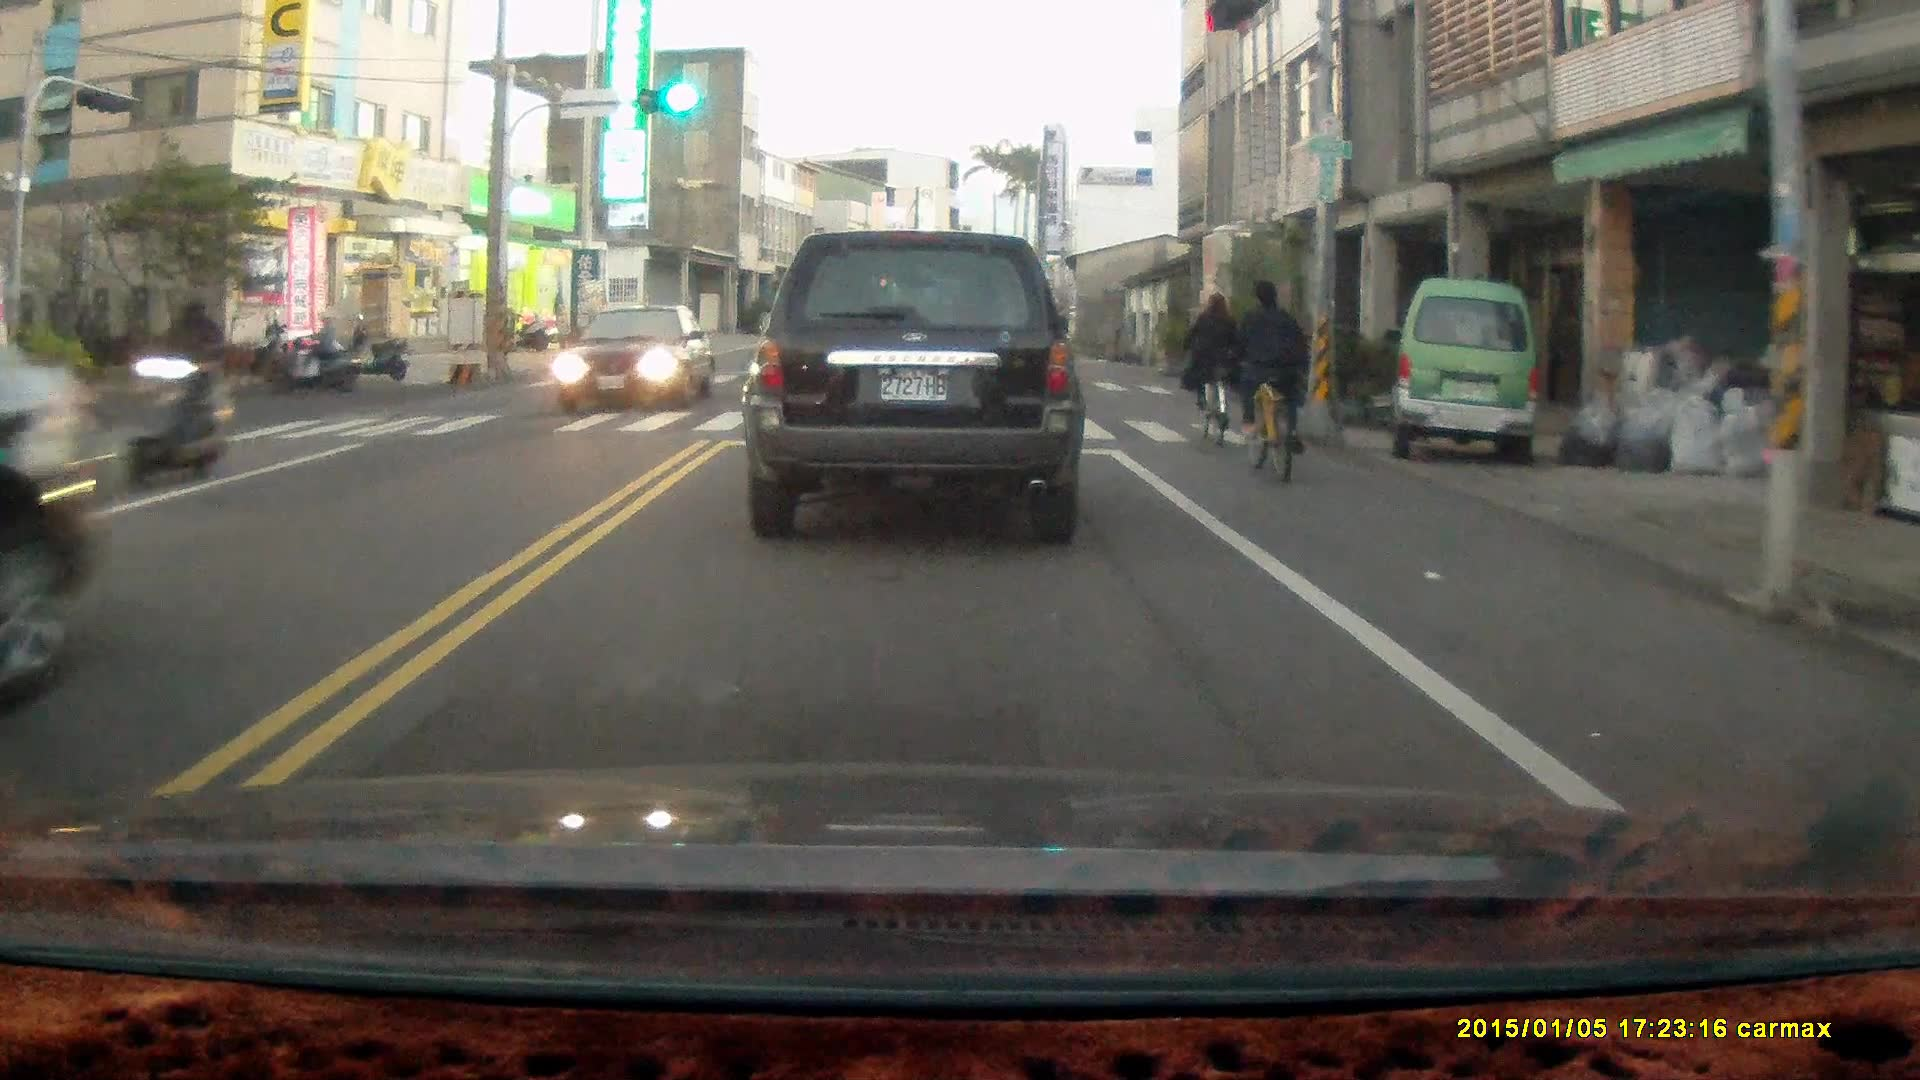rider: (120, 290, 241, 493), (1224, 275, 1307, 482), (1177, 290, 1237, 445), (269, 308, 358, 394)
vehicle: (744, 226, 1085, 545), (1, 279, 103, 706), (1390, 278, 1543, 472), (553, 302, 720, 416)
